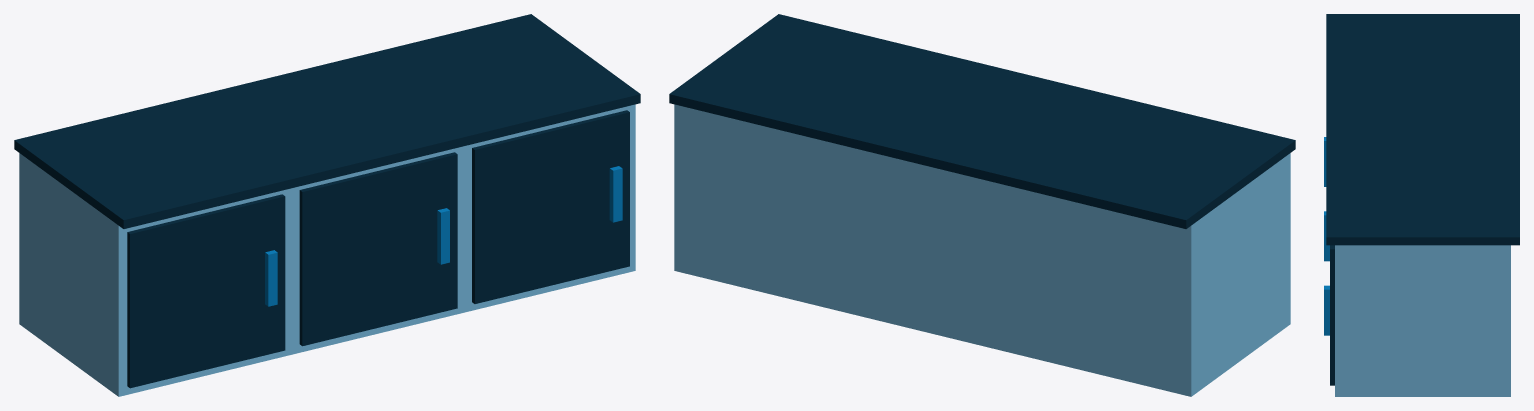
File: Cupboards.fbx
3 views of the same model, side by side, from view 1: azimuth 30°, elevation 25°; view 2: azimuth 150°, elevation 25°; view 3: azimuth 270°, elevation 25° (orthographic). The views are drawn at different scales.
Visible parts, largest first — view 1: Cupboards; view 2: Cupboards; view 3: Cupboards.
Boxes of the visible parts, bbox=[...] form: Cupboards: bbox=[14, 14, 640, 396]; Cupboards: bbox=[669, 14, 1295, 396]; Cupboards: bbox=[1324, 14, 1519, 396].
Size of the model in its own units: 3000 by 1000 by 1112.
